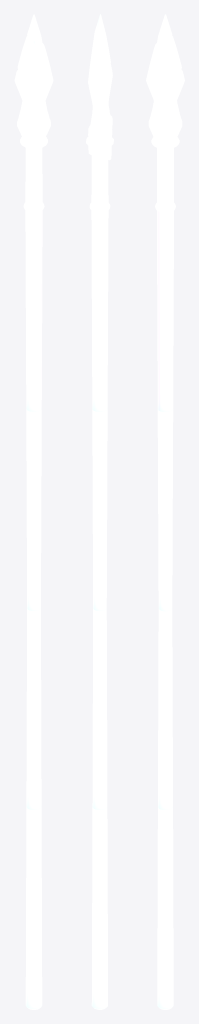
3 renders of one model, left to right at view 1: azimuth 90°, elevation 25°; view 2: azimuth 150°, elevation 25°; view 3: azimuth 270°, elevation 25°, orthographic.
Visible parts, largest first — view 1: SM_SpikeyPlant_01_LOD0; view 2: SM_SpikeyPlant_01_LOD0; view 3: SM_SpikeyPlant_01_LOD0.
Part boxes in pixels (bbox=[...]): SM_SpikeyPlant_01_LOD0: bbox=[14, 14, 53, 1009]; SM_SpikeyPlant_01_LOD0: bbox=[86, 14, 113, 1009]; SM_SpikeyPlant_01_LOD0: bbox=[146, 14, 184, 1009].
Bounding box in the file's own units: 0.1431 × 5.75 × 0.2045.
